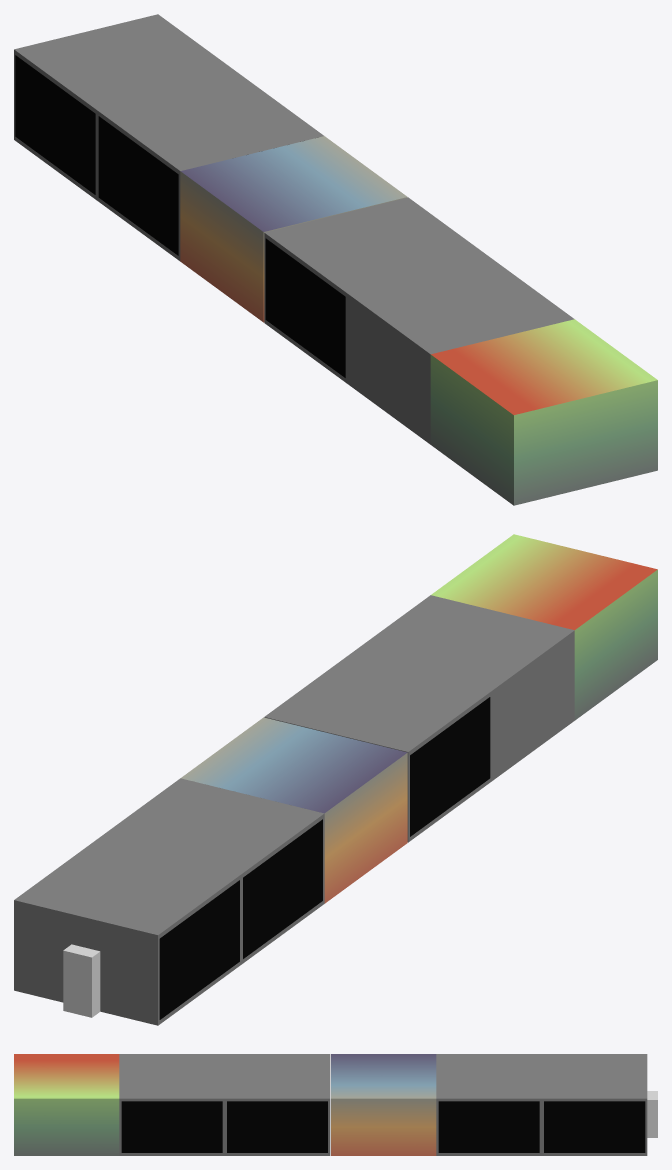
File: NewArtGallery.glb
The picture shows the model from 3 angles, top to bottom: view 1: azimuth 30°, elevation 25°; view 2: azimuth 150°, elevation 25°; view 3: azimuth 270°, elevation 25°; orthographic projection. The views are drawn at different scales.
Visible parts, largest first — view 1: Sala1, Sala2, Sala2.001, Sala3, Moldura2, Moldura1.001, Moldura2.001; view 2: Sala2.001, Sala2, Sala3, Sala1, Moldura2.001, Moldura2, Moldura1.001, Cube.001; view 3: Sala2, Sala2.001, Sala1, Sala3, Moldura3, Moldura4.001, Moldura3.001, Moldura4, Cube.001.
Boxes of the visible parts, box(x1,y1,x2,y2) form: Sala1: box(430, 319, 657, 505); Sala2: box(264, 197, 574, 444); Sala2.001: box(14, 14, 323, 261); Sala3: box(180, 136, 407, 322); Moldura2: box(265, 238, 345, 377); Moldura1.001: box(98, 116, 178, 255); Moldura2.001: box(15, 55, 95, 194); Sala2.001: box(14, 778, 324, 1025); Sala2: box(264, 595, 574, 842); Sala3: box(181, 717, 407, 903); Sala1: box(431, 534, 657, 720); Moldura2.001: box(159, 880, 239, 1019); Moldura2: box(410, 697, 490, 836); Moldura1.001: box(243, 819, 322, 958); Cube.001: box(63, 944, 100, 1017); Sala2: box(119, 1054, 330, 1155); Sala2.001: box(436, 1054, 647, 1155); Sala1: box(14, 1054, 119, 1155); Sala3: box(331, 1054, 436, 1155); Moldura3: box(121, 1101, 222, 1152); Moldura4.001: box(544, 1101, 645, 1152); Moldura3.001: box(438, 1101, 539, 1152); Moldura4: box(227, 1101, 327, 1152); Cube.001: box(647, 1091, 657, 1137).
Size of the model in its own units: 5.02 by 3 by 30.55.
Materials: 13 (10 with a texture image).
